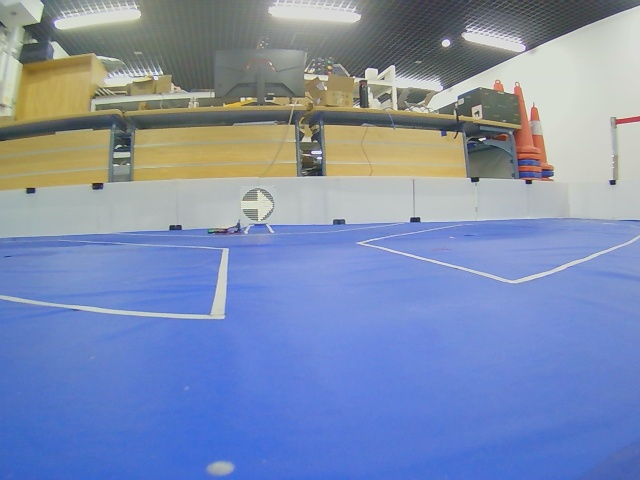right_yellow: (241, 188, 275, 223)
